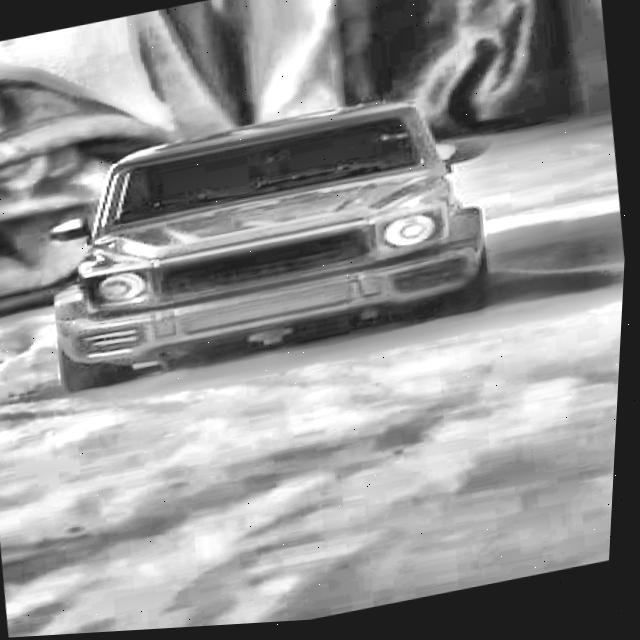light_vehicle: (21, 82, 507, 400)
